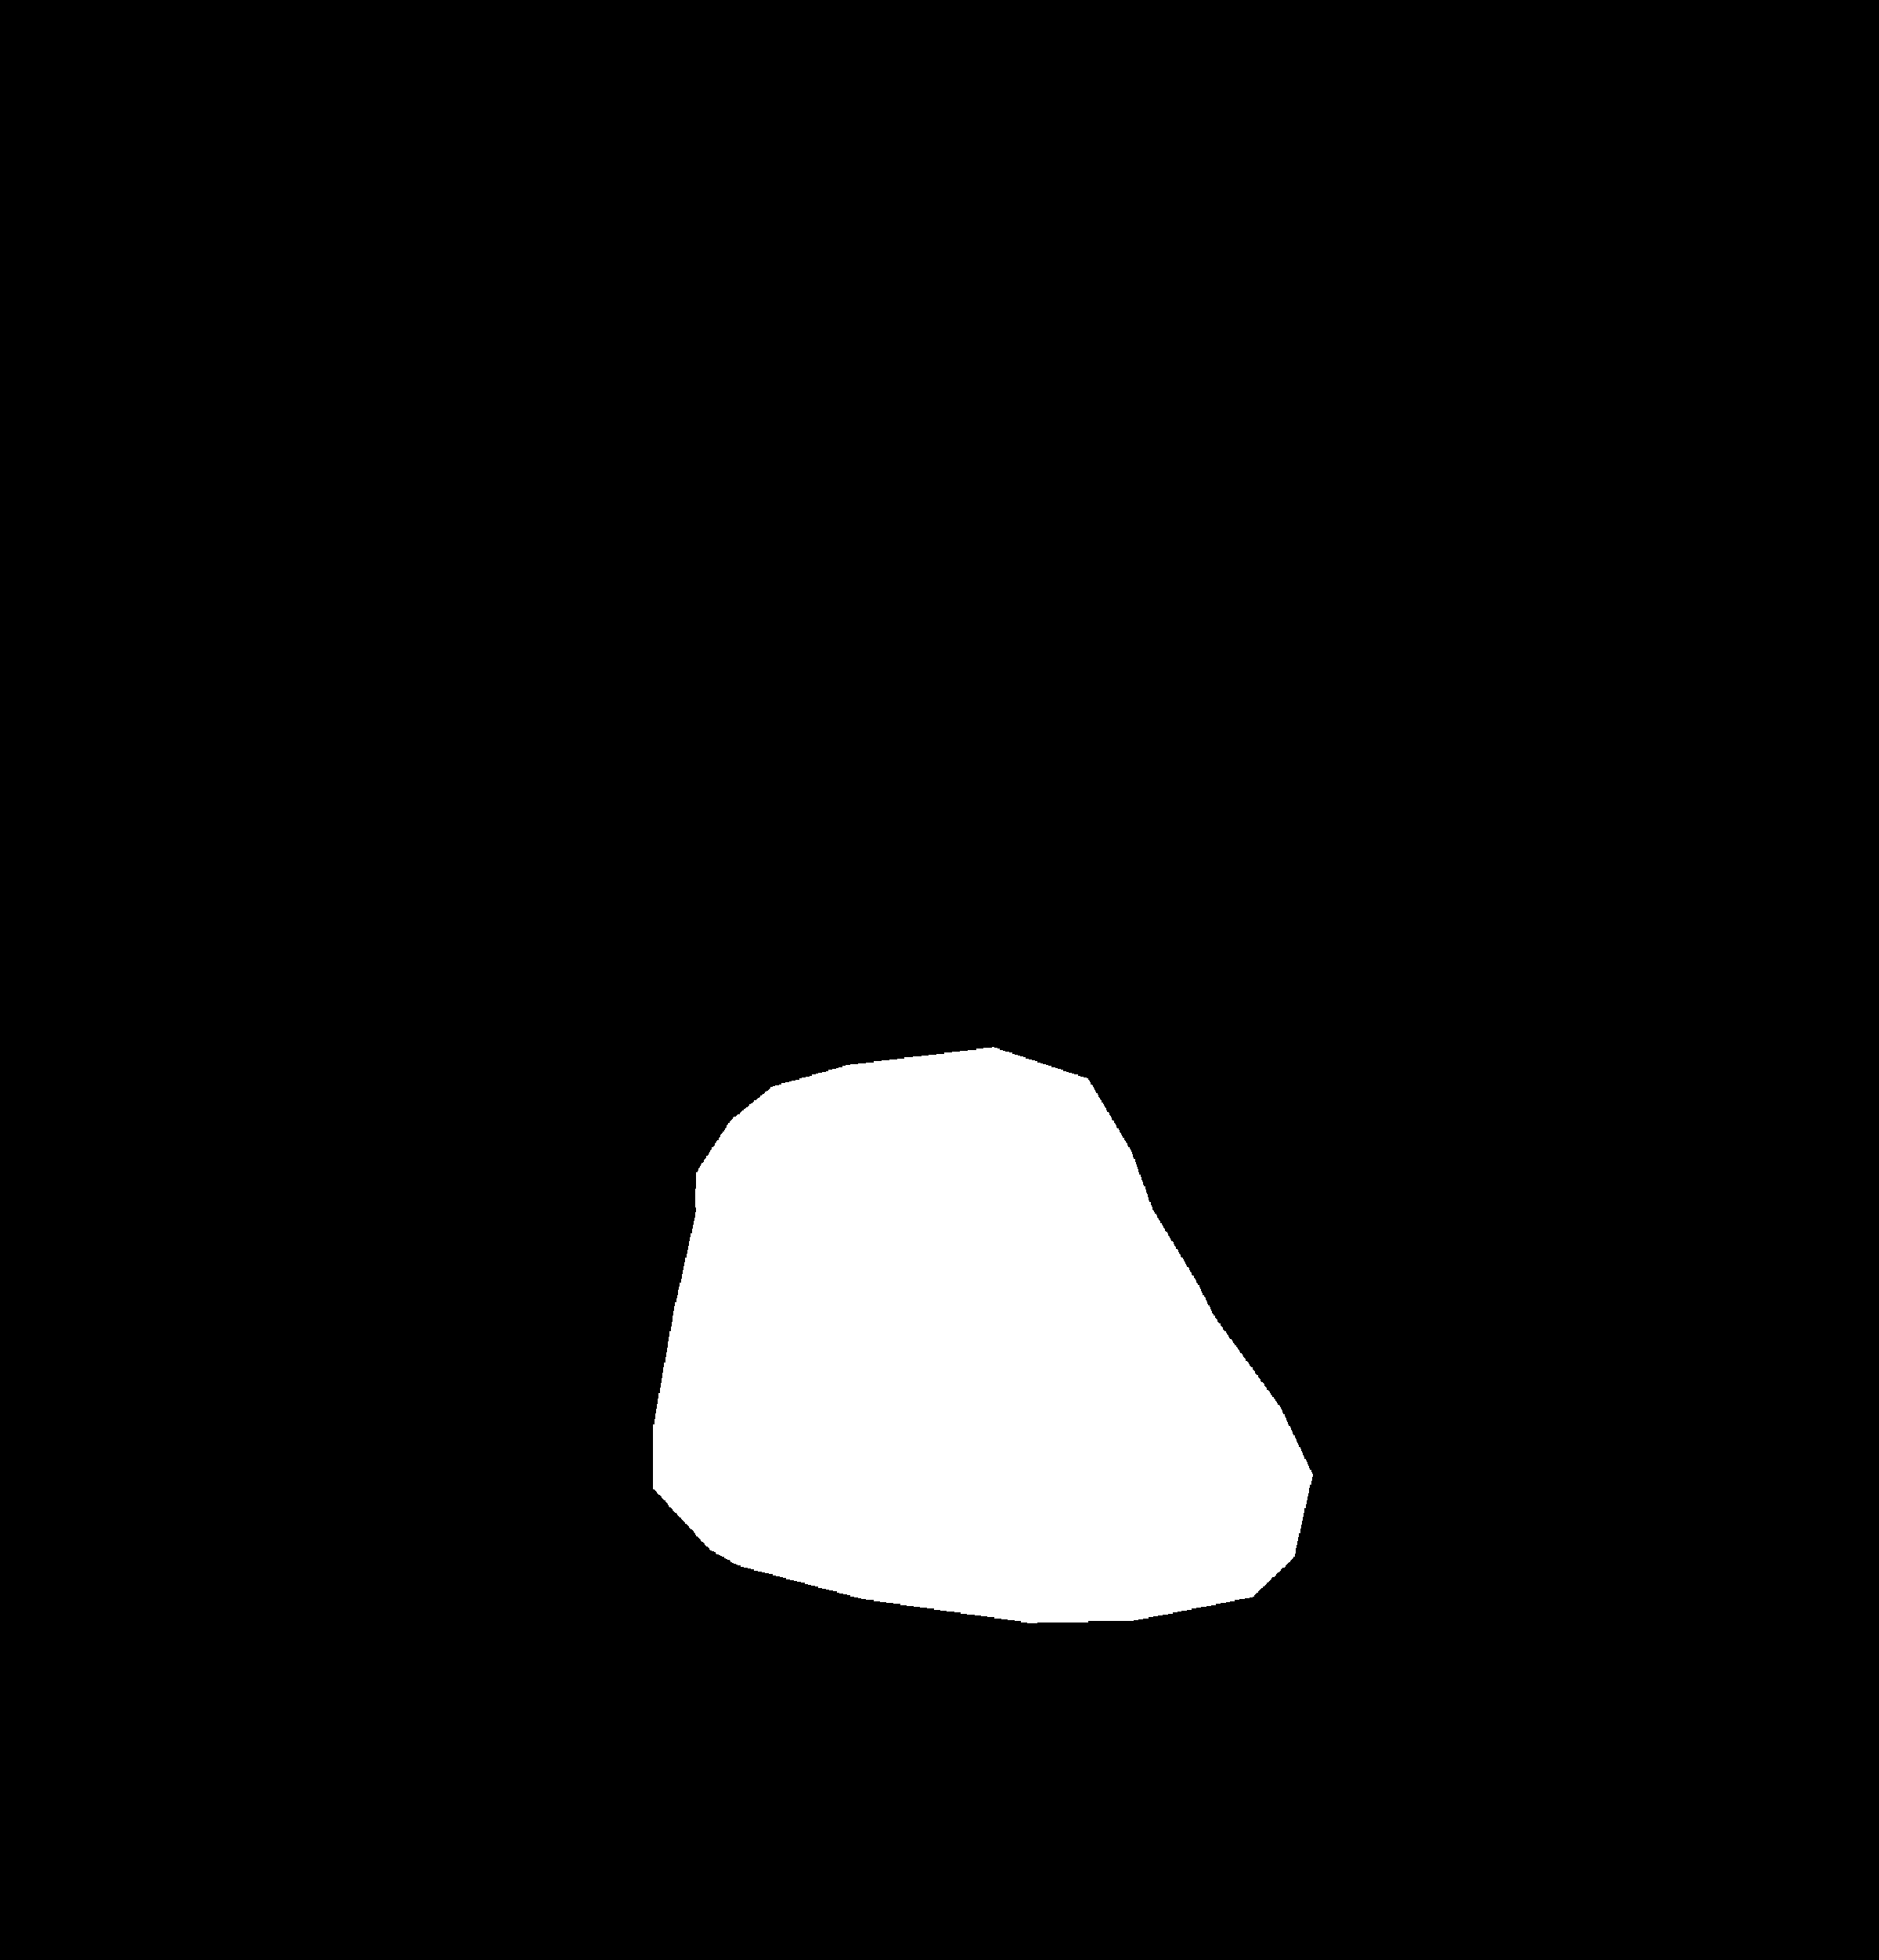heart: (646, 1285, 1575, 1916)
left_lung: (224, 297, 807, 1690)
right_lung: (995, 353, 1592, 1507)
